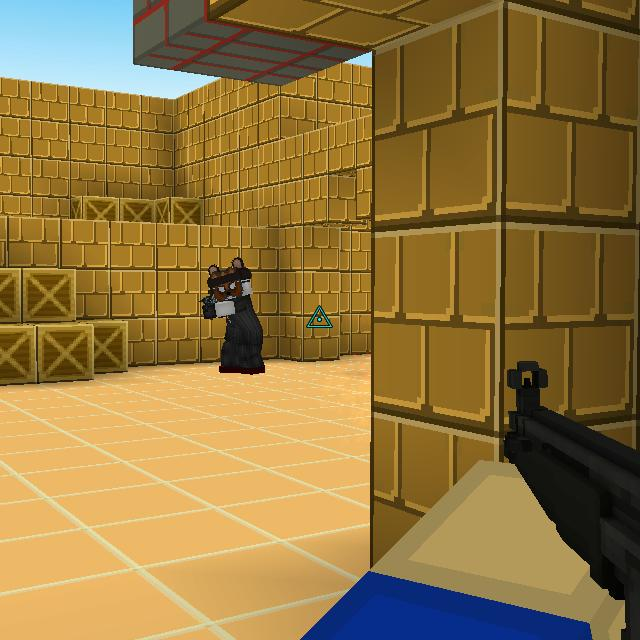enemy: (200, 256, 266, 376)
